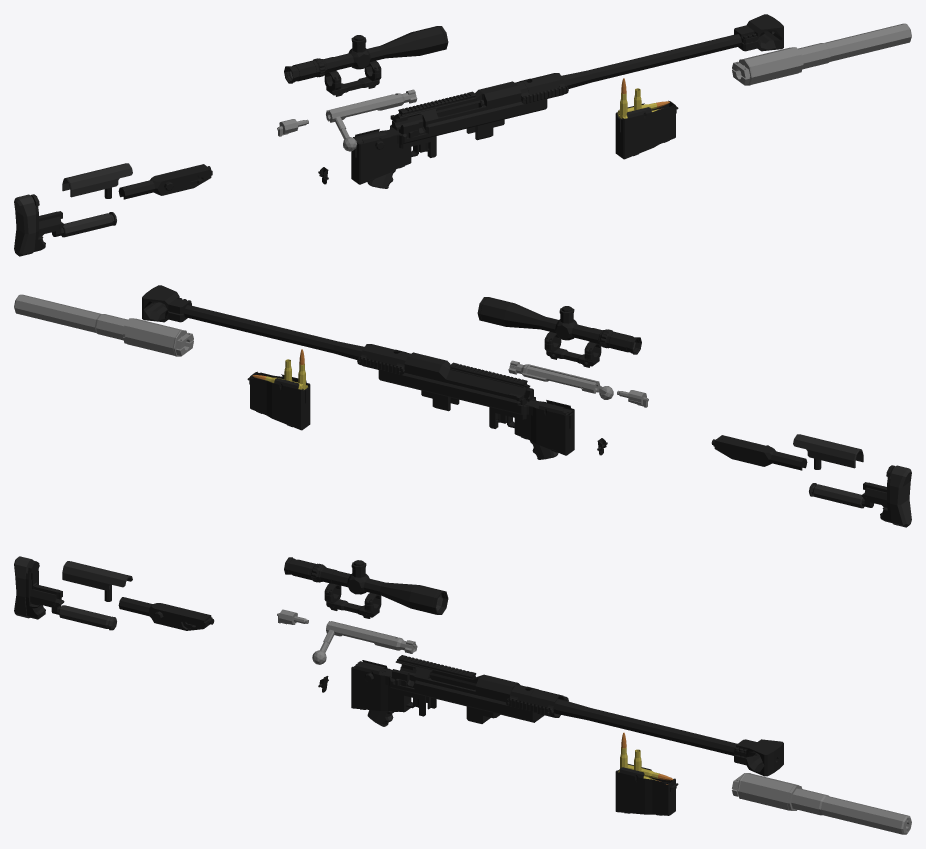
File: low-poly_pgm_hecate_ii.glb
The picture shows the model from 3 angles, top to bottom: view 1: azimuth 30°, elevation 25°; view 2: azimuth 150°, elevation 25°; view 3: azimuth 330°, elevation 25°; orthographic projection.
Parts seen in each view (by area): view 1: qms50 silencer_15, hecate2 upper receiver_8, scope_Object_43, hecate2 lower receiver_7, stock_Object_27, mag_Object_11, hecate2 50bmg barrel 70cm_4, mag_Object_9, stock_Object_25, bolt_Object_17, hecate2 50bmg muzzle brake_14, stock_Object_30 (+1 smaller); view 2: qms50 silencer_15, hecate2 upper receiver_8, scope_Object_43, hecate2 lower receiver_7, stock_Object_27, mag_Object_11, hecate2 50bmg barrel 70cm_4, mag_Object_9, stock_Object_25, stock_Object_30, hecate2 50bmg muzzle brake_14, bolt_Object_17 (+1 smaller); view 3: qms50 silencer_15, hecate2 upper receiver_8, scope_Object_43, hecate2 lower receiver_7, stock_Object_27, mag_Object_11, hecate2 50bmg barrel 70cm_4, mag_Object_9, stock_Object_25, bolt_Object_17, hecate2 50bmg muzzle brake_14, stock_Object_30 (+1 smaller).
Part boxes in pixels (x1,y1,x2,y2): qms50 silencer_15: (732, 23, 911, 85); hecate2 upper receiver_8: (390, 73, 568, 137); scope_Object_43: (284, 26, 448, 83); hecate2 lower receiver_7: (375, 98, 547, 157); stock_Object_27: (14, 194, 116, 256); mag_Object_11: (615, 100, 678, 159); hecate2 50bmg barrel 70cm_4: (532, 34, 742, 93); mag_Object_9: (351, 128, 411, 184); stock_Object_25: (118, 164, 212, 199); bolt_Object_17: (326, 89, 417, 151); hecate2 50bmg muzzle brake_14: (734, 14, 783, 51); stock_Object_30: (62, 163, 132, 198); qms50 silencer_15: (14, 294, 193, 356); hecate2 upper receiver_8: (357, 344, 533, 405); scope_Object_43: (477, 297, 641, 354); hecate2 lower receiver_7: (378, 369, 564, 428); stock_Object_27: (809, 465, 911, 527); mag_Object_11: (247, 371, 310, 430); hecate2 50bmg barrel 70cm_4: (183, 305, 393, 364); mag_Object_9: (514, 398, 574, 455); stock_Object_25: (711, 435, 807, 470); stock_Object_30: (793, 434, 863, 469); hecate2 50bmg muzzle brake_14: (142, 285, 191, 322); bolt_Object_17: (508, 360, 613, 399); qms50 silencer_15: (732, 773, 911, 834); hecate2 upper receiver_8: (392, 655, 568, 717); scope_Object_43: (284, 557, 448, 614); hecate2 lower receiver_7: (364, 669, 544, 723); stock_Object_27: (14, 556, 116, 630); mag_Object_11: (615, 764, 678, 815); hecate2 50bmg barrel 70cm_4: (521, 698, 737, 755); mag_Object_9: (351, 660, 411, 712); stock_Object_25: (118, 597, 214, 630); bolt_Object_17: (312, 621, 417, 664); hecate2 50bmg muzzle brake_14: (734, 739, 783, 776); stock_Object_30: (62, 561, 132, 601).
Bounding box in the file's own units: 24.39 × 4.79 × 1.32.
